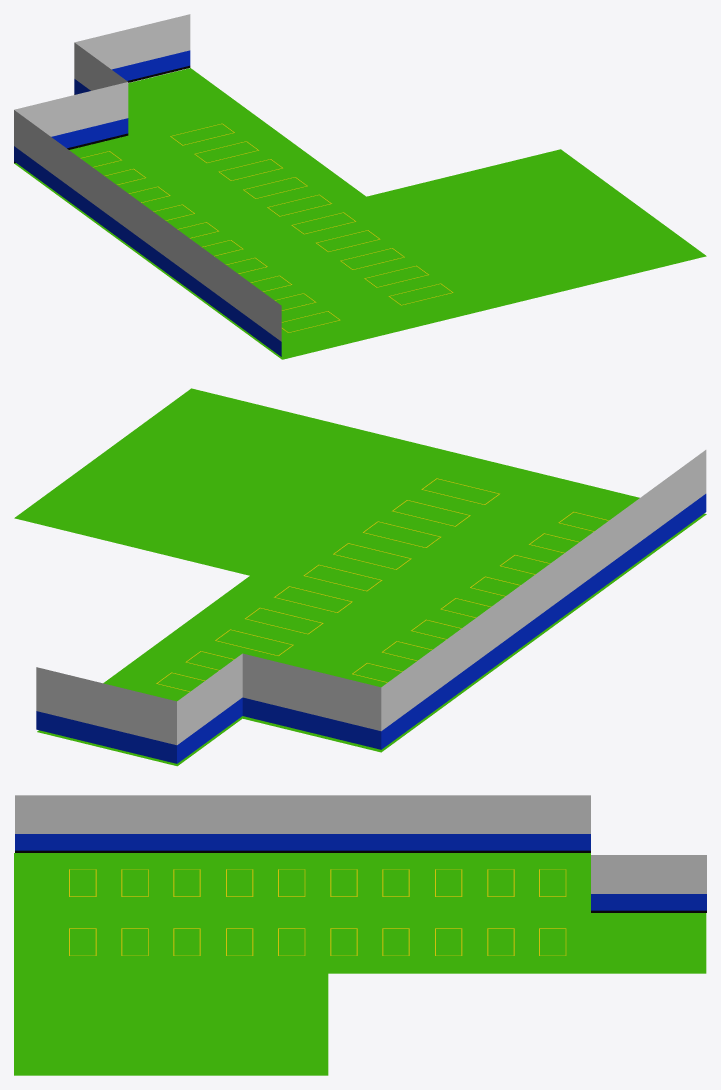
Rendered from moulding-floor.glb.
3 views of the same model, one above another, from view 1: azimuth 30°, elevation 25°; view 2: azimuth 150°, elevation 25°; view 3: azimuth 270°, elevation 25° (orthographic). The views are drawn at different scales.
Parts seen in each view (by area): view 1: Plane.001, Plane.020, Plane.018, Plane.011, Plane.013, Plane.014, Plane.015, Plane.017, Plane.012, Plane.016, Plane.019, Plane.010; view 2: Plane.001, Plane.016, Plane.014, Plane.017, Plane.013, Plane.015, Plane.019, Plane.020, Plane.018; view 3: Plane.001, Plane, Plane.002, Plane.003, Plane.004, Plane.005, Plane.006, Plane.007, Plane.008, Plane.009, Plane.010, Plane.011 (+9 smaller).
Boxes of the visible parts, <box> form: Plane.001: <box>14,14,706,359</box>; Plane.020: <box>388,283,453,305</box>; Plane.018: <box>340,248,404,269</box>; Plane.011: <box>170,123,234,145</box>; Plane.013: <box>218,159,282,180</box>; Plane.014: <box>243,177,307,198</box>; Plane.015: <box>267,194,331,216</box>; Plane.017: <box>316,230,380,251</box>; Plane.012: <box>194,141,258,162</box>; Plane.016: <box>291,212,355,234</box>; Plane.019: <box>364,265,428,287</box>; Plane.010: <box>281,311,340,332</box>; Plane.001: <box>14,388,706,766</box>; Plane.016: <box>303,564,382,591</box>; Plane.014: <box>245,607,323,634</box>; Plane.017: <box>333,543,411,569</box>; Plane.013: <box>215,629,293,655</box>; Plane.015: <box>274,586,352,612</box>; Plane.019: <box>392,500,470,526</box>; Plane.020: <box>421,478,499,504</box>; Plane.018: <box>363,521,440,547</box>; Plane.001: <box>14,795,706,1075</box>; Plane: <box>539,869,566,896</box>; Plane.002: <box>487,869,514,896</box>; Plane.003: <box>435,869,462,896</box>; Plane.004: <box>382,869,409,896</box>; Plane.005: <box>330,869,357,896</box>; Plane.006: <box>278,869,305,896</box>; Plane.007: <box>226,869,253,896</box>; Plane.008: <box>173,869,200,896</box>; Plane.009: <box>121,869,148,896</box>; Plane.010: <box>69,869,96,896</box>; Plane.011: <box>539,928,566,955</box>.
Bounding box in the file's own units: 277 × 33.44 × 364.
